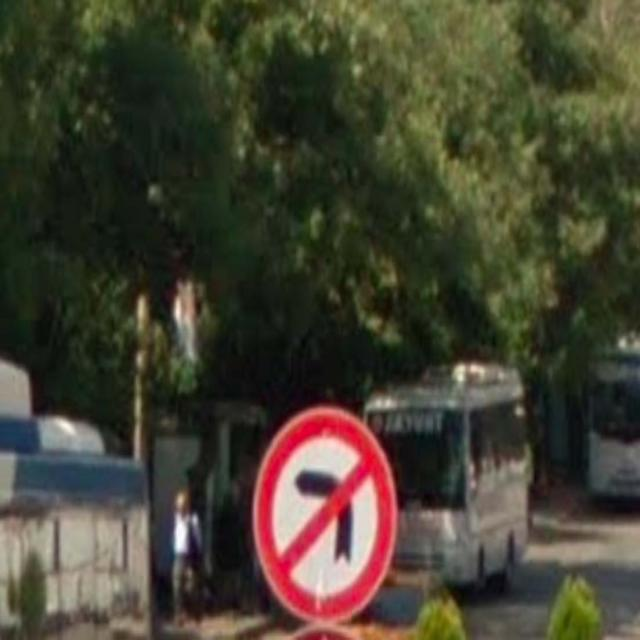soladonulmez: (252, 404, 396, 620)
